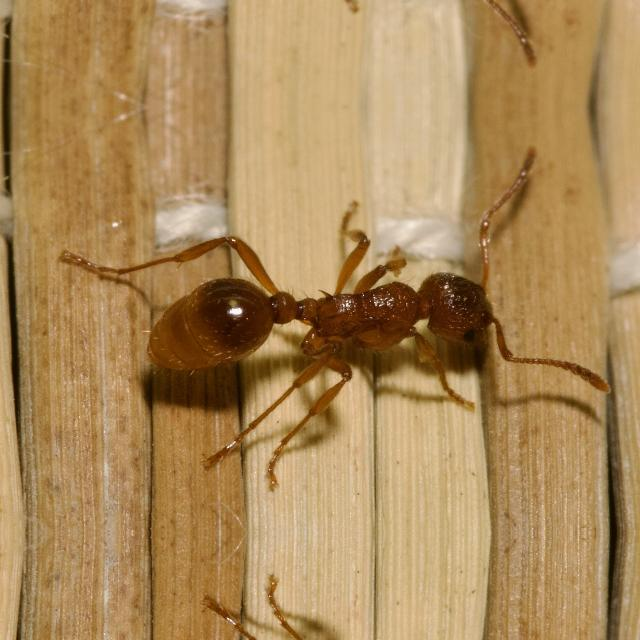Myrmica: (116, 206, 570, 420)
